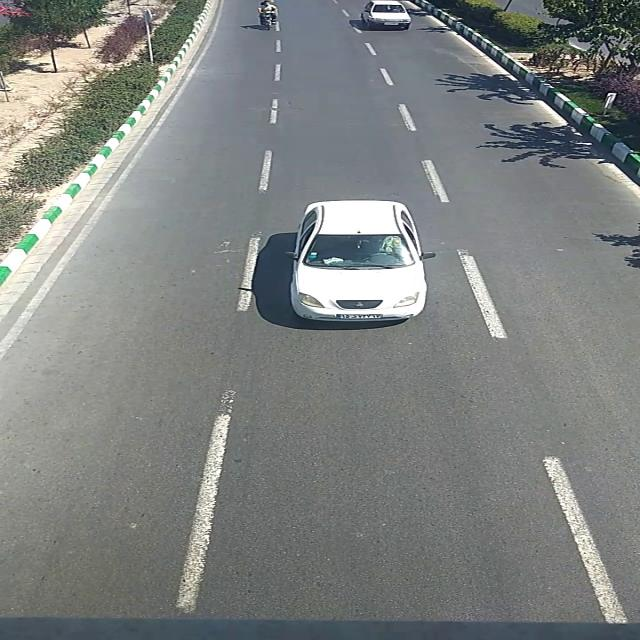car: (284, 202, 434, 320), (359, 1, 412, 32)
motorbike: (258, 2, 280, 29)
